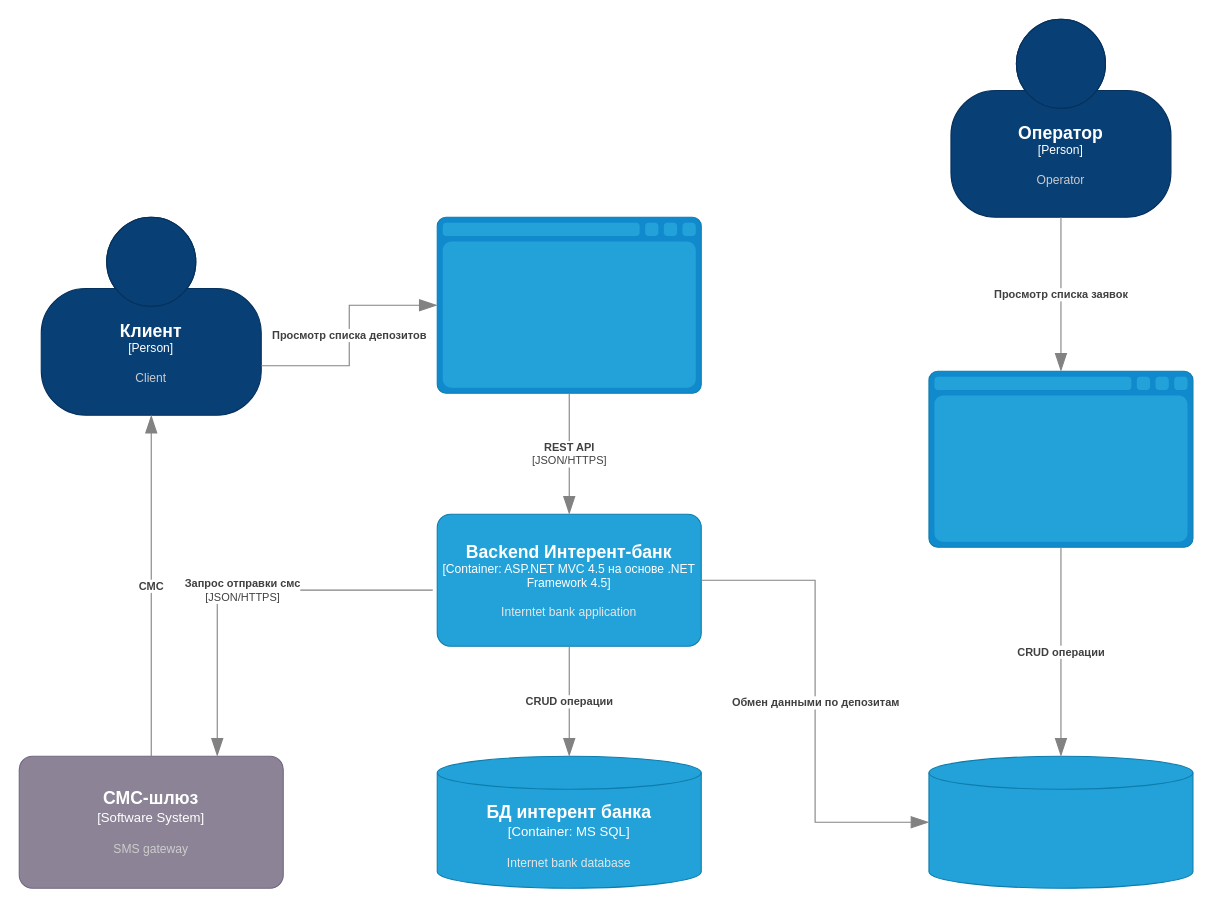
This 1212x908 diagram has some shape labels left out. The shapes that lost their labels are listed below. From the top down, each one's box as (x1, y1, x2, y2) in pixels, then its label:
(436, 216, 701, 393): Web интерфейй [Container: PHP, React.js] WEB interface
(928, 370, 1193, 547): Интерфейс АБС [Container: Delphi] ABS Interface
(928, 755, 1193, 888): БД АБС [Container: Oracle Database 12] ABS Database
